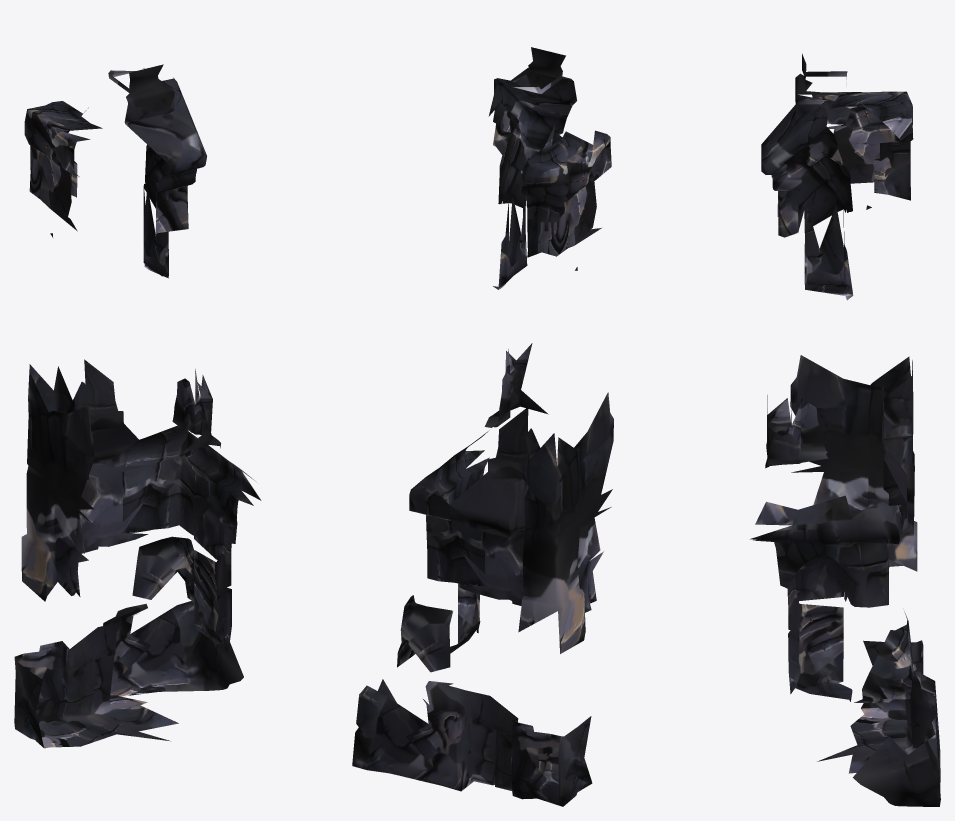
File: RIP0.obj
3 views of the same model, side by side, from view 1: azimuth 30°, elevation 25°; view 2: azimuth 150°, elevation 25°; view 3: azimuth 270°, elevation 25° (orthographic).
Visible parts, largest first — view 1: RIP0; view 2: RIP0; view 3: RIP0.
Boxes of the visible parts, <box> form: RIP0: <box>14,64,261,748</box>; RIP0: <box>352,47,613,806</box>; RIP0: <box>750,53,940,806</box>.
Size of the model in its own units: 0.2828 by 1 by 0.3134.
1 material, 1 textured.
